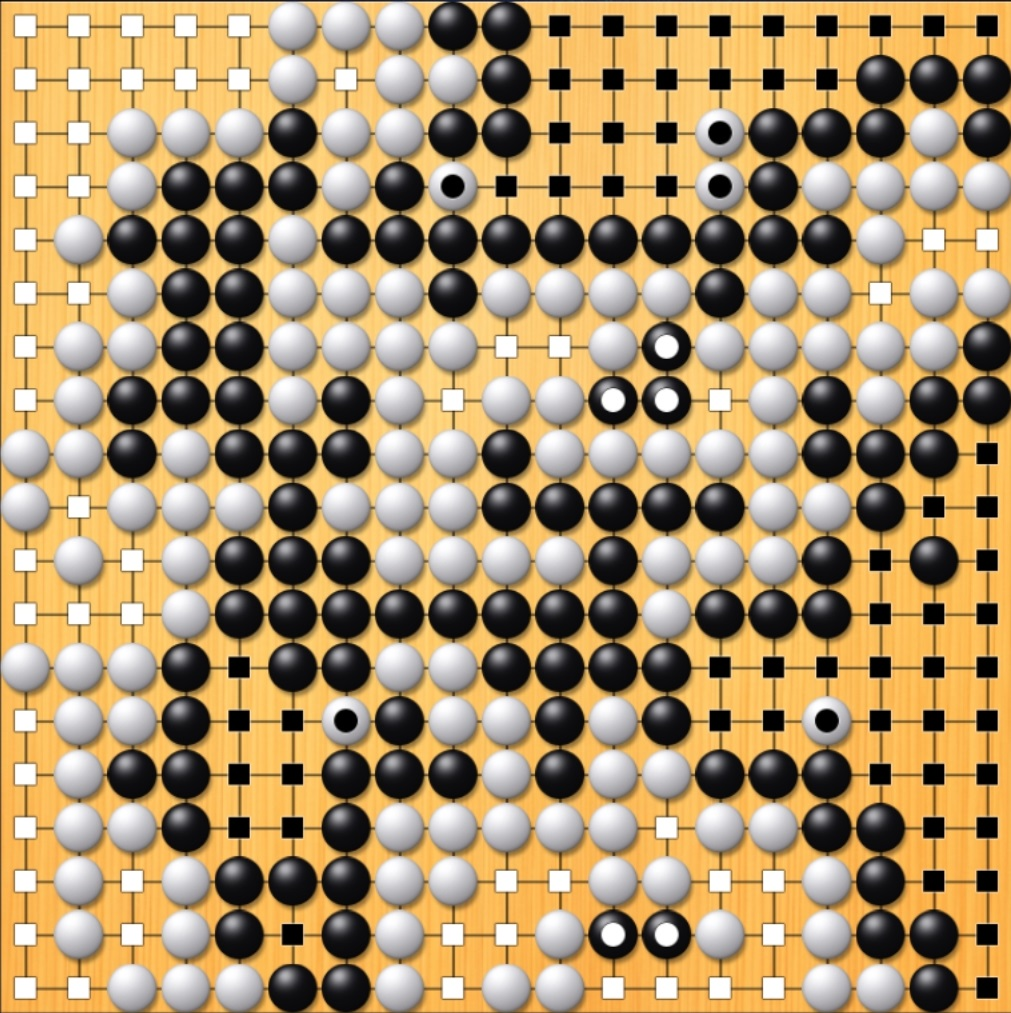black: (104, 764, 144, 804), (104, 219, 144, 259), (104, 382, 144, 422), (158, 655, 198, 695), (158, 710, 198, 750), (158, 819, 198, 859), (158, 164, 198, 204), (158, 219, 198, 259), (158, 328, 198, 368), (213, 873, 253, 913), (213, 273, 253, 313), (213, 328, 253, 368), (213, 382, 253, 422), (213, 437, 253, 477), (267, 601, 307, 641), (267, 110, 307, 150), (267, 437, 307, 477), (322, 764, 362, 804), (322, 219, 362, 259), (322, 382, 362, 422), (376, 601, 416, 641), (376, 764, 416, 804), (431, 1, 471, 41), (431, 764, 471, 804), (431, 219, 471, 259), (431, 273, 471, 313), (486, 1, 526, 41), (486, 492, 526, 532), (486, 110, 526, 150), (540, 601, 580, 641), (595, 492, 635, 532), (595, 601, 635, 641), (649, 655, 689, 695), (704, 492, 744, 532), (704, 764, 744, 804), (704, 273, 744, 313), (758, 601, 798, 641), (758, 764, 798, 804), (813, 546, 853, 586), (813, 764, 853, 804), (813, 110, 853, 150), (813, 382, 853, 422), (867, 492, 907, 532), (867, 873, 907, 913), (867, 928, 907, 968), (867, 55, 907, 95), (867, 110, 907, 150), (922, 928, 962, 968), (922, 382, 962, 422), (159, 383, 197, 421), (214, 547, 252, 585), (214, 929, 252, 967), (268, 493, 306, 531), (268, 874, 306, 912), (323, 929, 361, 967), (323, 438, 361, 476), (377, 220, 415, 258), (541, 493, 579, 531), (541, 765, 579, 803), (650, 493, 688, 531), (650, 711, 688, 749), (814, 438, 852, 476), (868, 820, 906, 858), (868, 438, 906, 476), (977, 55, 1011, 95), (977, 110, 1011, 150), (977, 328, 1011, 368), (977, 382, 1011, 422), (106, 439, 142, 475), (215, 603, 251, 639), (215, 221, 251, 257), (269, 657, 305, 693), (269, 166, 305, 202), (324, 548, 360, 584), (324, 657, 360, 693), (324, 821, 360, 857), (324, 875, 360, 911), (378, 712, 414, 748), (488, 603, 524, 639), (488, 657, 524, 693), (488, 57, 524, 93), (488, 439, 524, 475), (542, 712, 578, 748), (542, 221, 578, 257), (597, 657, 633, 693), (597, 930, 633, 966), (597, 221, 633, 257), (651, 221, 687, 257), (706, 603, 742, 639), (706, 221, 742, 257), (760, 112, 796, 148), (760, 166, 796, 202), (760, 221, 796, 257), (815, 821, 851, 857), (815, 221, 851, 257), (924, 548, 960, 584), (924, 57, 960, 93), (924, 439, 960, 475), (267, 983, 307, 1013), (322, 983, 362, 1013), (922, 983, 962, 1013), (161, 767, 195, 801), (161, 276, 195, 310), (325, 604, 359, 638), (434, 604, 468, 638), (434, 113, 468, 147), (543, 658, 577, 692), (816, 604, 850, 638), (273, 552, 301, 580), (382, 170, 410, 198), (601, 552, 629, 580), (655, 934, 683, 962), (655, 334, 683, 362), (655, 388, 683, 416), (221, 172, 245, 196), (494, 227, 518, 251), (603, 390, 627, 414)
white: (104, 492, 144, 532), (104, 655, 144, 695), (104, 710, 144, 750), (104, 273, 144, 313), (104, 328, 144, 368), (158, 492, 198, 532), (158, 546, 198, 586), (158, 928, 198, 968), (158, 110, 198, 150), (267, 219, 307, 259), (267, 273, 307, 313), (267, 328, 307, 368), (322, 164, 362, 204), (322, 328, 362, 368), (376, 1, 416, 41), (376, 819, 416, 859), (376, 55, 416, 95), (376, 110, 416, 150), (376, 437, 416, 477), (431, 710, 471, 750), (486, 764, 526, 804), (540, 382, 580, 422), (595, 710, 635, 750), (595, 764, 635, 804), (595, 273, 635, 313), (595, 328, 635, 368), (595, 437, 635, 477), (649, 764, 689, 804), (649, 873, 689, 913), (649, 437, 689, 477), (867, 164, 907, 204), (867, 219, 907, 259), (922, 328, 962, 368), (50, 547, 88, 585), (50, 656, 88, 694), (50, 765, 88, 803), (50, 820, 88, 858), (50, 438, 88, 476), (105, 820, 143, 858), (105, 111, 143, 149), (105, 165, 143, 203), (159, 602, 197, 640), (214, 493, 252, 531), (214, 111, 252, 149), (268, 2, 306, 40), (268, 56, 306, 94), (323, 111, 361, 149), (377, 493, 415, 531), (377, 929, 415, 967), (377, 274, 415, 312), (377, 383, 415, 421), (432, 493, 470, 531), (432, 547, 470, 585), (432, 874, 470, 912), (432, 56, 470, 94), (432, 165, 470, 203), (432, 329, 470, 367), (432, 438, 470, 476), (487, 711, 525, 749), (487, 820, 525, 858), (487, 274, 525, 312), (487, 383, 525, 421), (541, 547, 579, 585), (541, 820, 579, 858), (541, 438, 579, 476), (705, 547, 743, 585), (705, 929, 743, 967), (705, 329, 743, 367), (705, 438, 743, 476), (759, 547, 797, 585), (759, 274, 797, 312), (759, 383, 797, 421), (759, 438, 797, 476), (814, 493, 852, 531), (814, 929, 852, 967), (814, 165, 852, 203), (814, 274, 852, 312), (814, 329, 852, 367), (1, 655, 35, 695), (1, 437, 35, 477), (51, 875, 87, 911), (51, 930, 87, 966), (51, 221, 87, 257), (160, 875, 196, 911), (160, 439, 196, 475), (269, 384, 305, 420), (324, 494, 360, 530), (378, 548, 414, 584), (378, 657, 414, 693), (378, 875, 414, 911), (378, 330, 414, 366), (433, 657, 469, 693), (433, 821, 469, 857), (488, 548, 524, 584), (542, 930, 578, 966), (542, 275, 578, 311), (597, 875, 633, 911), (651, 548, 687, 584), (651, 275, 687, 311), (706, 821, 742, 857), (760, 494, 796, 530), (760, 821, 796, 857), (760, 330, 796, 366), (815, 875, 851, 911), (924, 112, 960, 148), (924, 166, 960, 202), (924, 275, 960, 311), (978, 274, 1011, 312), (486, 983, 526, 1013), (52, 713, 86, 747), (52, 331, 86, 365), (52, 385, 86, 419), (598, 822, 632, 856), (707, 167, 741, 201), (816, 713, 850, 747), (870, 331, 904, 365), (870, 385, 904, 419), (105, 984, 143, 1013), (159, 984, 197, 1013), (377, 984, 415, 1013), (980, 167, 1011, 201), (708, 114, 740, 146), (542, 985, 578, 1013), (815, 985, 851, 1013), (869, 985, 905, 1013), (216, 986, 250, 1013), (1, 497, 30, 527), (331, 719, 353, 741)
